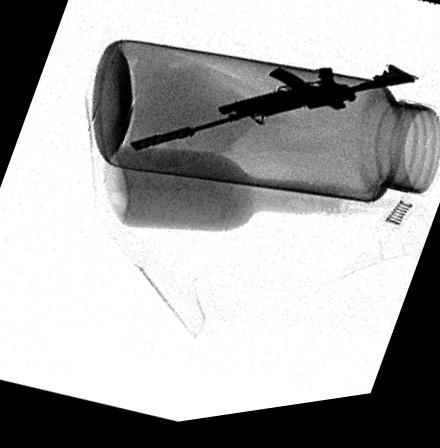Gun: (125, 75, 419, 156)
